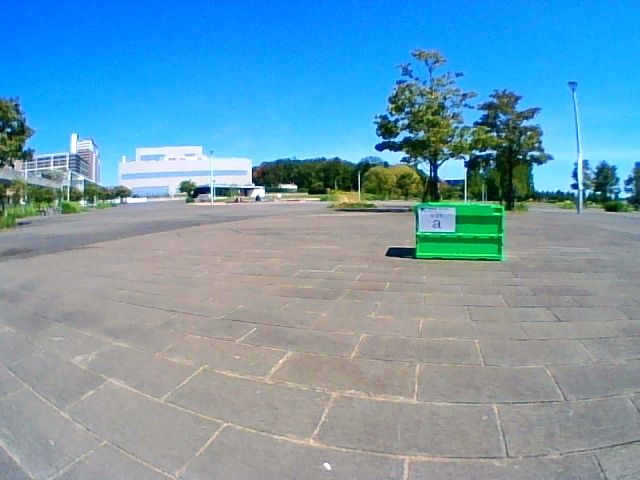green_box: (417, 202, 503, 263)
tag_a: (418, 208, 454, 232)
